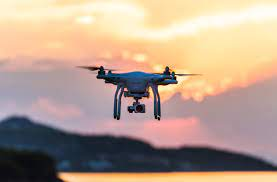drone: (76, 64, 198, 121)
